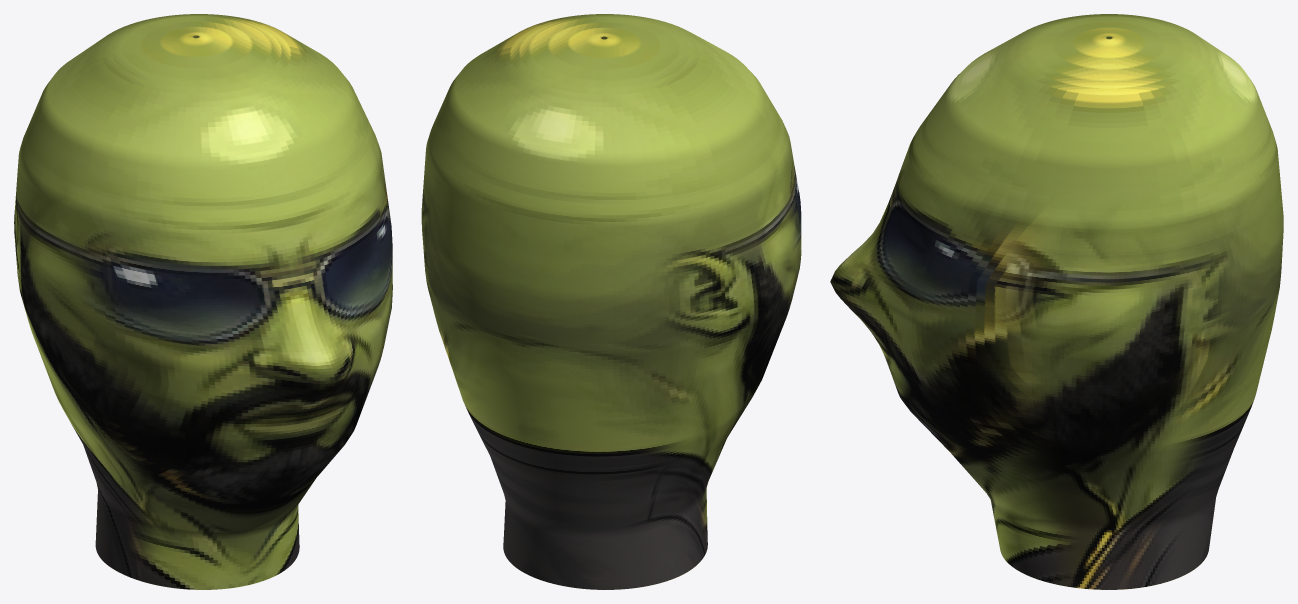
Rendered from head.glb.
3 renders of one model, left to right at view 1: azimuth 30°, elevation 25°; view 2: azimuth 150°, elevation 25°; view 3: azimuth 270°, elevation 25°, orthographic.
Visible parts, largest first — view 1: rick source head and dimensional accessories; view 2: rick source head and dimensional accessories; view 3: rick source head and dimensional accessories.
Boxes of the visible parts, box(x1,y1,x2,y2) form: rick source head and dimensional accessories: box(14, 14, 392, 589); rick source head and dimensional accessories: box(421, 14, 801, 589); rick source head and dimensional accessories: box(830, 14, 1283, 589).
Bounding box in the file's own units: 0.2506 × 0.36 × 0.2906.
1 material, 1 textured.
